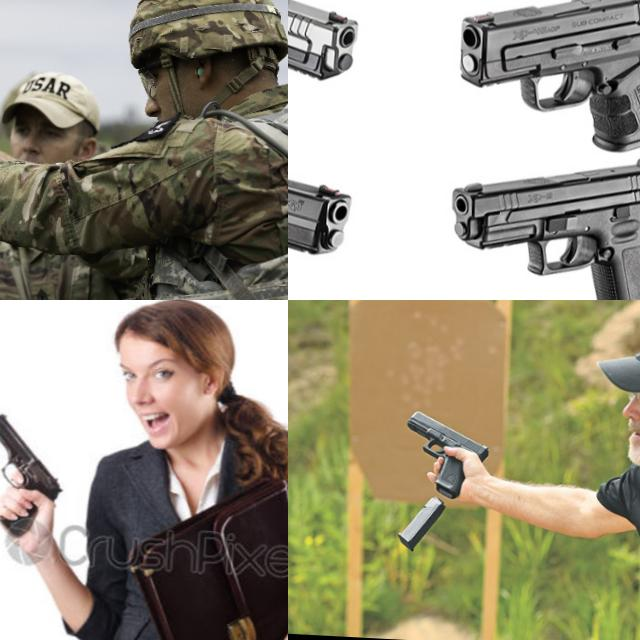handgun: (441, 144, 640, 300), (453, 0, 640, 154), (288, 137, 405, 300), (288, 0, 405, 149), (0, 406, 69, 543), (400, 408, 494, 504), (0, 108, 58, 168)
